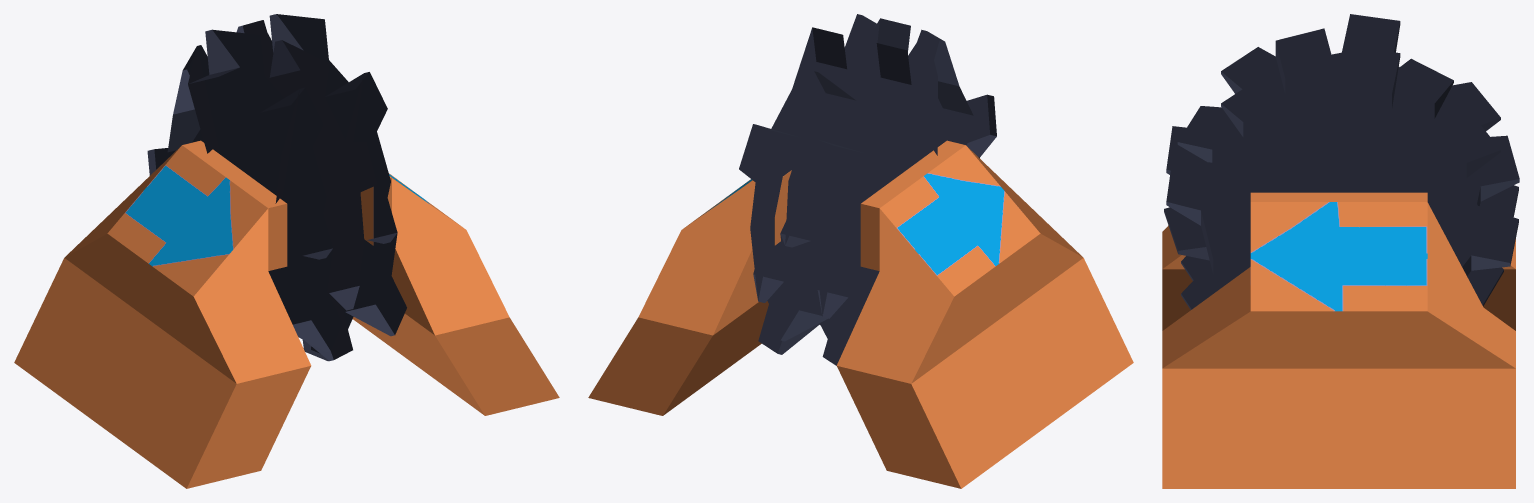
File: extractor.fbx
The picture shows the model from 3 angles, left to right: view 1: azimuth 30°, elevation 25°; view 2: azimuth 150°, elevation 25°; view 3: azimuth 270°, elevation 25°; orthographic projection. The views are drawn at different scales.
Visible parts, largest first — view 1: Cube, Plane.002, Plane.001, Plane; view 2: Cube, Plane.002, Plane.001, Plane; view 3: Cube, Plane, Plane.001, Plane.002.
Part boxes in pixels (<box>): Cube: <box>14,140,559,488</box>; Plane.002: <box>147,29,342,351</box>; Plane.001: <box>236,20,377,361</box>; Plane: <box>268,14,406,361</box>; Cube: <box>588,140,1133,488</box>; Plane.002: <box>803,29,996,365</box>; Plane.001: <box>769,18,916,341</box>; Plane: <box>739,14,876,354</box>; Cube: <box>1162,192,1515,488</box>; Plane: <box>1166,46,1518,309</box>; Plane.001: <box>1164,28,1519,306</box>; Plane.002: <box>1166,14,1518,280</box>.
Bounding box in the file's own units: 125 × 112 × 101.
3 materials, 1 textured.
